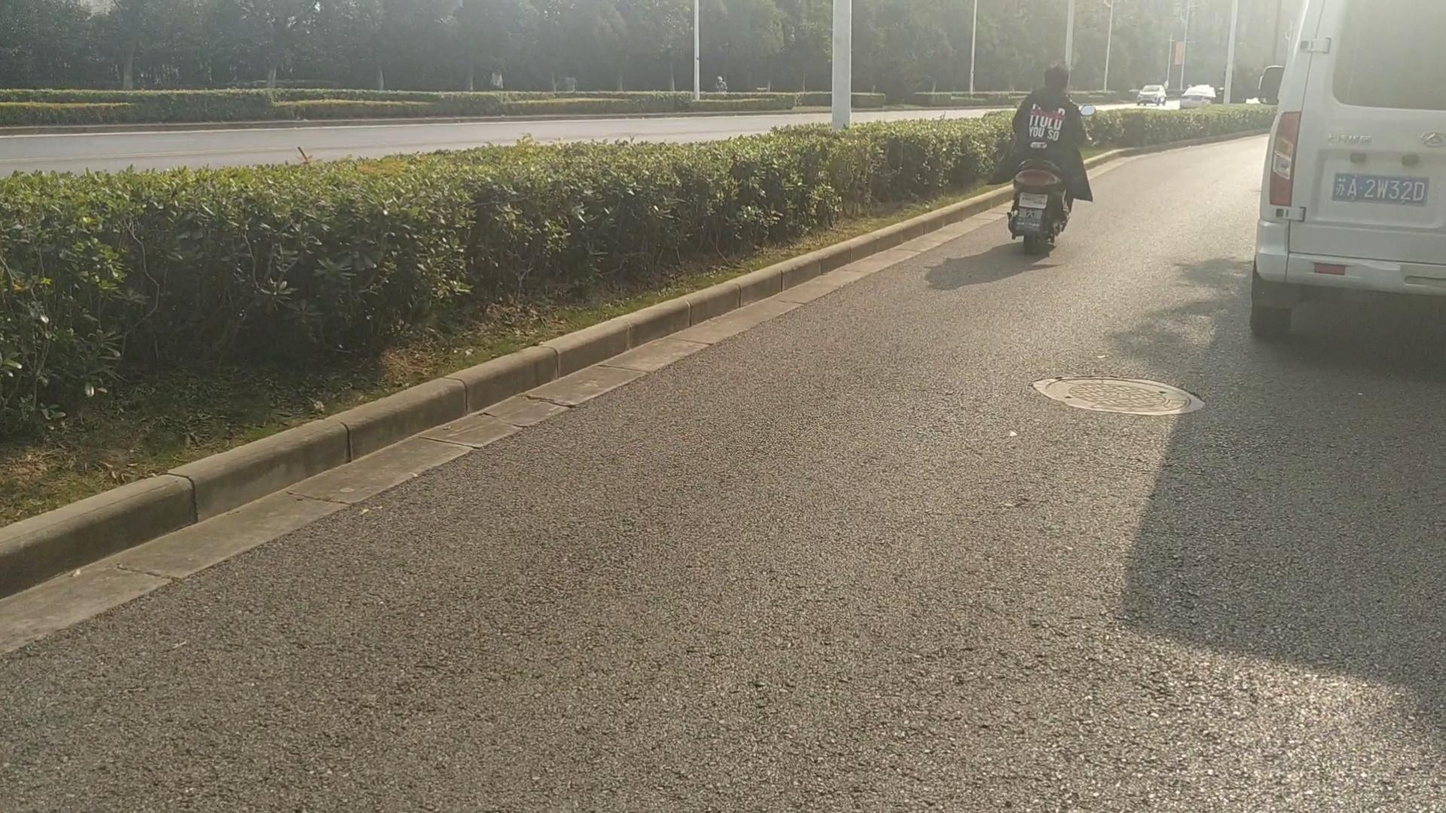car: (1135, 84, 1167, 106), (1183, 83, 1220, 102)
